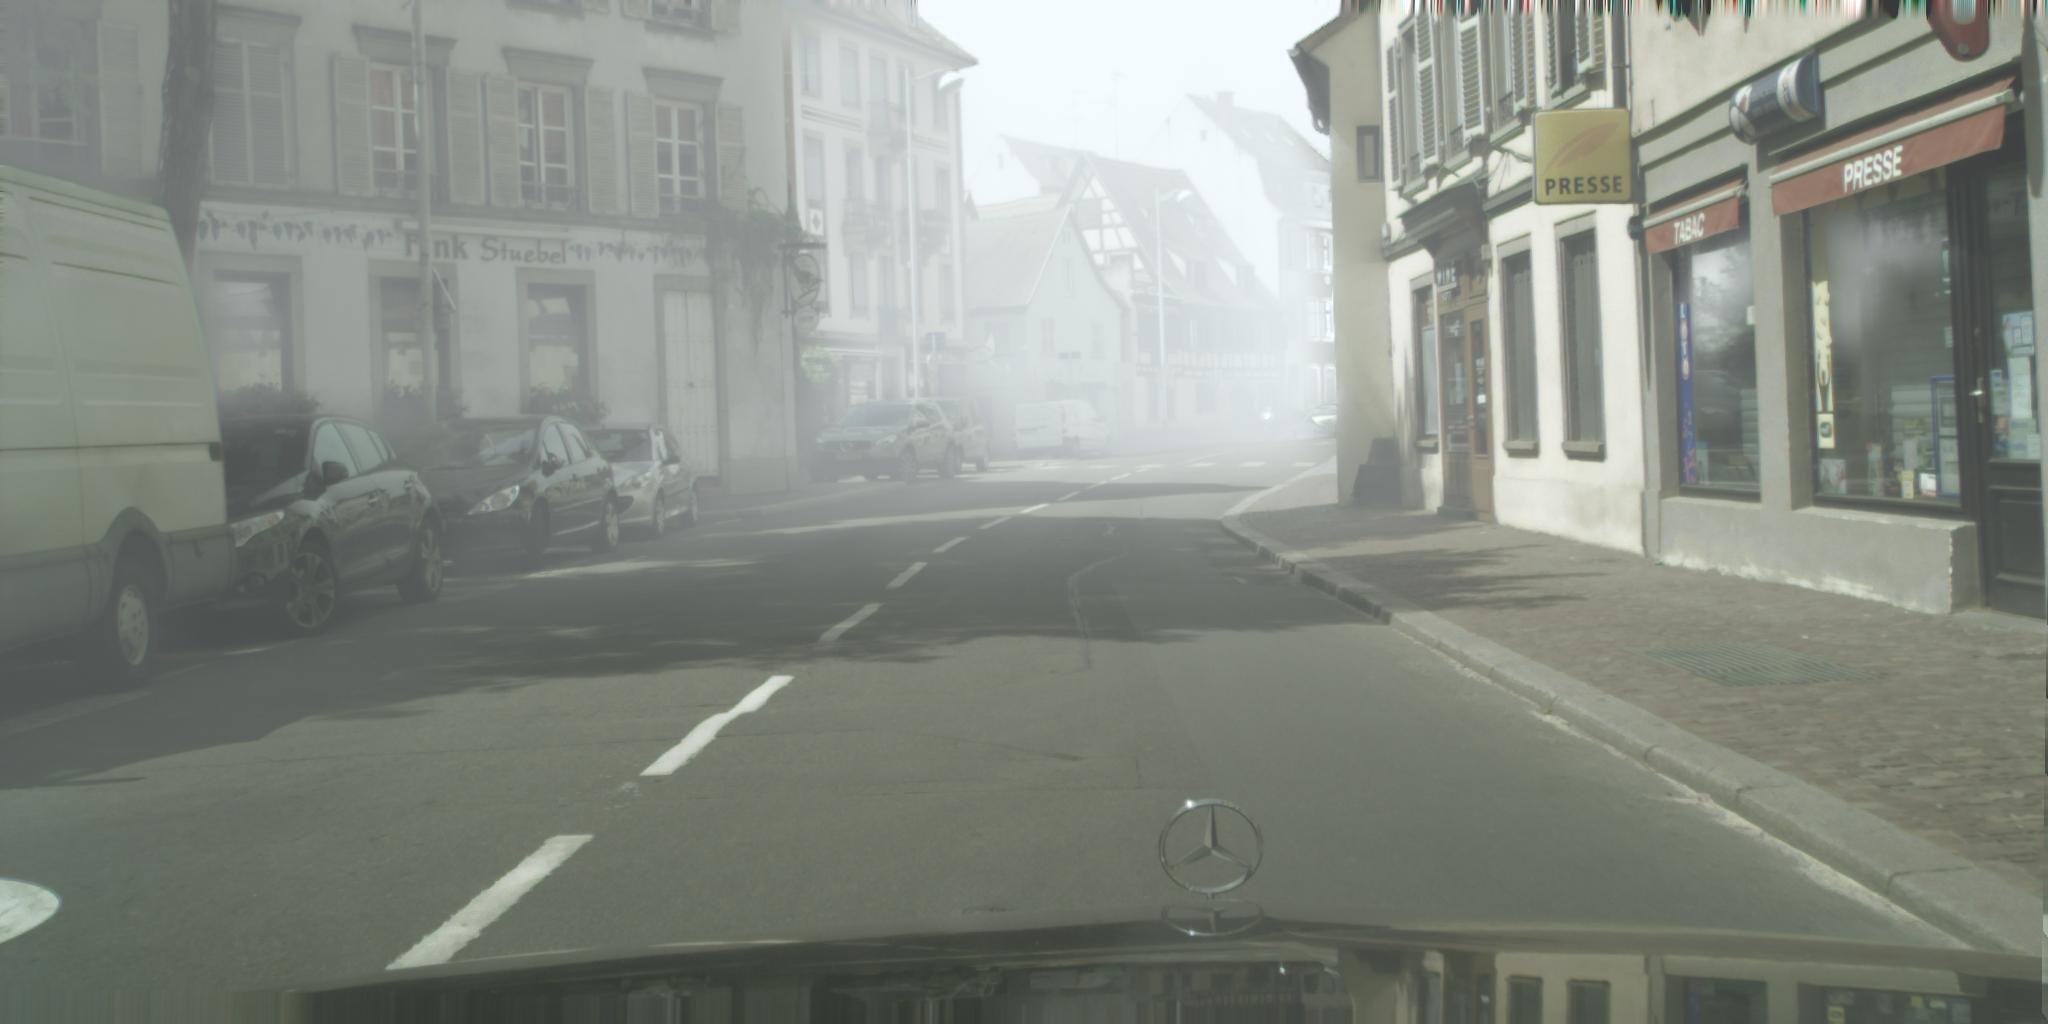bicycle: (1202, 418, 1230, 443)
car: (1, 158, 236, 691), (91, 414, 445, 637), (355, 414, 620, 572), (536, 421, 701, 539), (808, 398, 957, 485), (893, 396, 991, 474), (1014, 401, 1114, 462), (1254, 408, 1318, 443), (1306, 405, 1349, 439)
